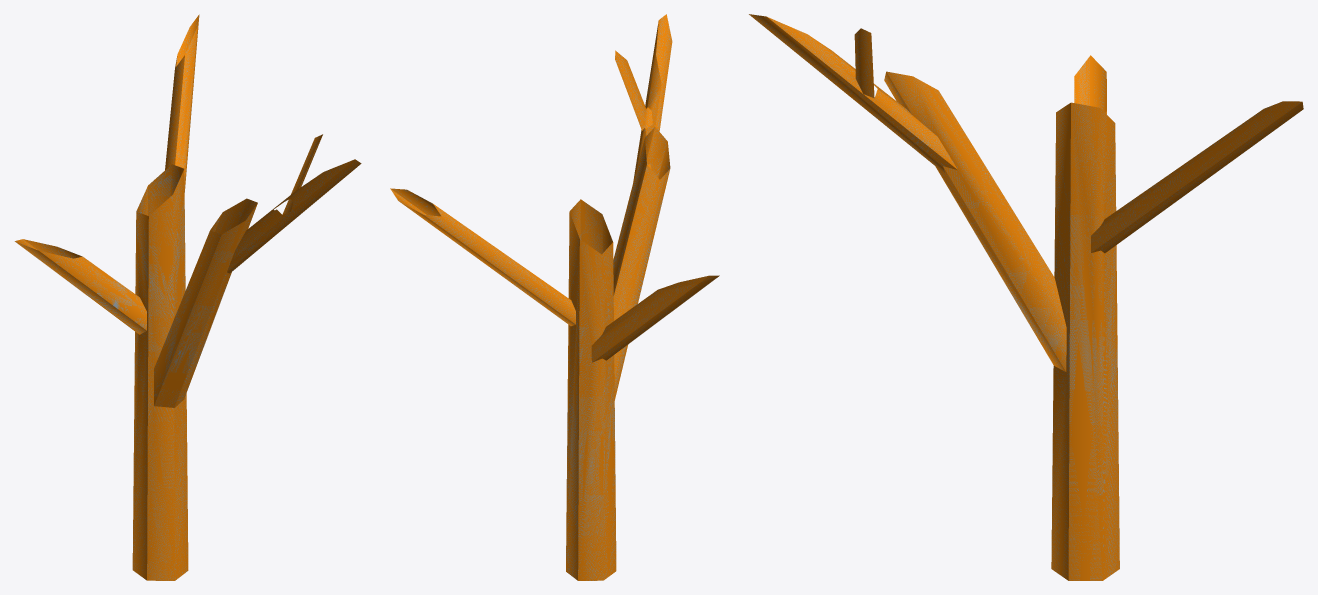
The model's file is Lilac_tree(orange).obj.
3 views of the same model, side by side, from view 1: azimuth 30°, elevation 25°; view 2: azimuth 150°, elevation 25°; view 3: azimuth 270°, elevation 25° (orthographic). The views are drawn at different scales.
Visible parts, largest first — view 1: Mesh1 Group1 Model; view 2: Mesh1 Group1 Model; view 3: Mesh1 Group1 Model.
Boxes of the visible parts, x1,y1,x2,y2 form: Mesh1 Group1 Model: (14, 14, 361, 580); Mesh1 Group1 Model: (390, 14, 719, 580); Mesh1 Group1 Model: (749, 14, 1303, 580).
Bounding box in the file's own units: 1424 × 2462 × 2103.
